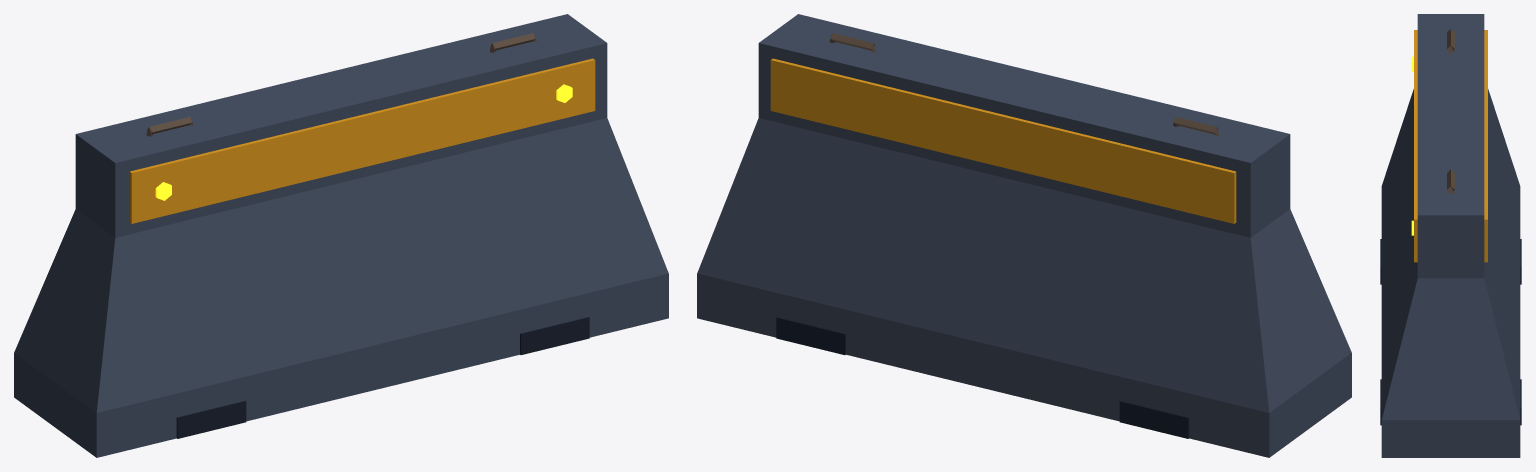
Rendered from city_barrier.glb.
The picture shows the model from 3 angles, left to right: view 1: azimuth 30°, elevation 25°; view 2: azimuth 150°, elevation 25°; view 3: azimuth 270°, elevation 25°; orthographic projection. The views are drawn at different scales.
Visible parts, largest first — view 1: concrete_body, stripe, foot_recess, foot_recess.001; view 2: concrete_body, stripe.001, foot_recess, foot_recess.001; view 3: concrete_body, stripe, stripe.001, foot_recess.001, foot_recess, lifting_loop.001, lifting_loop.
Boxes of the visible parts, <box> form: concrete_body: <box>14,14,668,457</box>; stripe: <box>129,58,595,223</box>; foot_recess: <box>176,400,246,438</box>; foot_recess.001: <box>520,317,589,354</box>; concrete_body: <box>697,14,1351,457</box>; stripe.001: <box>770,58,1236,223</box>; foot_recess: <box>1119,400,1189,438</box>; foot_recess.001: <box>776,317,845,354</box>; concrete_body: <box>1381,14,1520,457</box>; stripe: <box>1414,30,1417,262</box>; stripe.001: <box>1484,30,1487,262</box>; foot_recess.001: <box>1380,379,1521,425</box>; foot_recess: <box>1380,239,1521,284</box>; lifting_loop.001: <box>1447,169,1454,194</box>; lifting_loop: <box>1447,29,1454,53</box>.
Size of the model in its own units: 2 by 0.9288 by 0.51.
